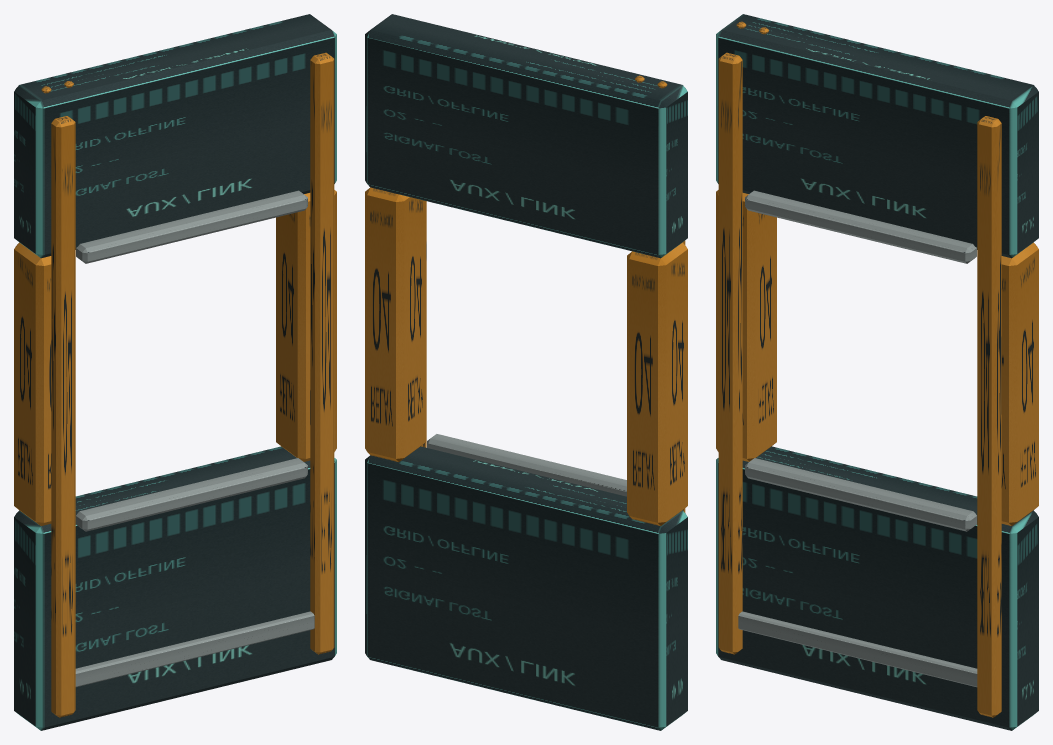
The model's file is wall_window_2m_LOD0.obj.
3 renders of one model, left to right at view 1: azimuth 30°, elevation 25°; view 2: azimuth 150°, elevation 25°; view 3: azimuth 330°, elevation 25°, orthographic.
Visible parts, largest first — view 1: L02_wall_window_2m_LOD0; view 2: L02_wall_window_2m_LOD0; view 3: L02_wall_window_2m_LOD0.
Boxes of the visible parts, box(x1,y1,x2,y2) form: L02_wall_window_2m_LOD0: box(14, 14, 336, 730); L02_wall_window_2m_LOD0: box(365, 14, 687, 730); L02_wall_window_2m_LOD0: box(716, 14, 1038, 730).
Bounding box in the file's own units: 2 × 4.03 × 0.41.
Materials: 1 (1 with a texture image).
